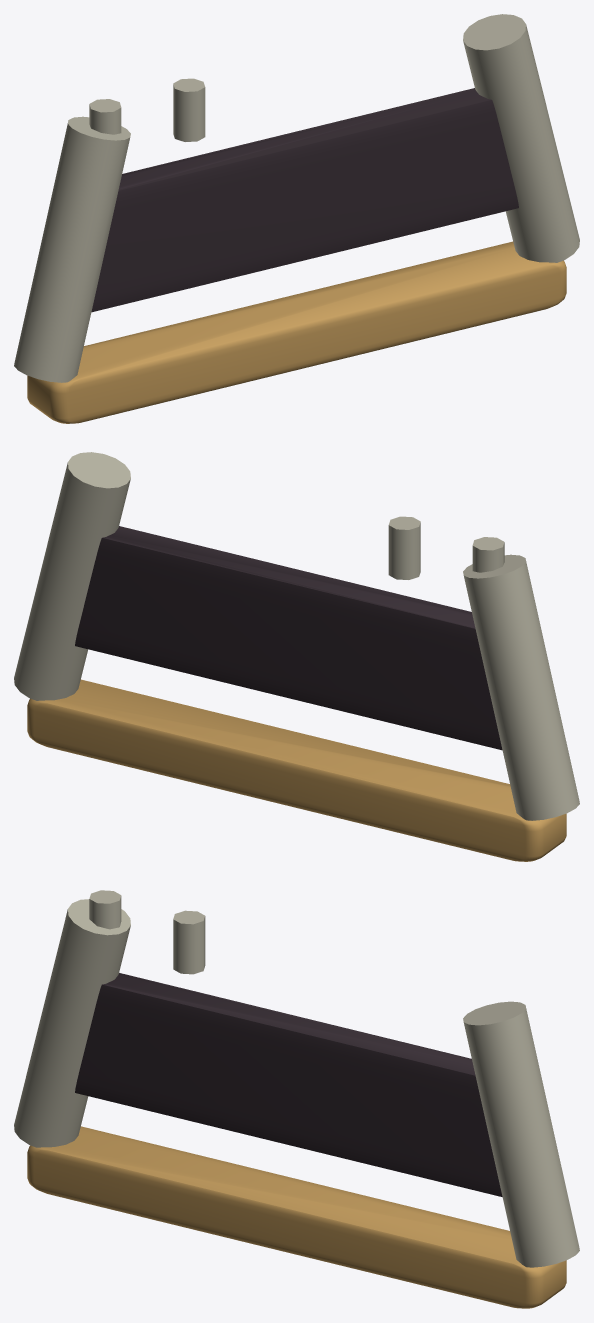
Rendered from Executive.glb.
3 views of the same model, one above another, from view 1: azimuth 30°, elevation 25°; view 2: azimuth 150°, elevation 25°; view 3: azimuth 330°, elevation 25° (orthographic).
Parts seen in each view (by area): view 1: Ribbon window, Lift bridge, Vibrator fork (×2), Eyelet (×2); view 2: Ribbon window, Lift bridge, Vibrator fork (×2), Eyelet (×2); view 3: Ribbon window, Lift bridge, Vibrator fork (×2), Eyelet (×2).
Boxes of the visible parts, x1,y1,x2,y2 form: Ribbon window: [91, 88, 518, 312]; Lift bridge: [27, 241, 566, 423]; Vibrator fork (×2): [14, 14, 579, 382]; Eyelet (×2): [89, 78, 205, 141]; Ribbon window: [75, 526, 502, 750]; Lift bridge: [27, 679, 566, 861]; Vibrator fork (×2): [14, 452, 579, 820]; Eyelet (×2): [388, 516, 504, 579]; Ribbon window: [75, 973, 502, 1196]; Lift bridge: [27, 1126, 566, 1308]; Vibrator fork (×2): [14, 899, 579, 1267]; Eyelet (×2): [89, 890, 205, 974].
Bounding box in the file's own units: 0.4658 × 0.2355 × 0.05.
